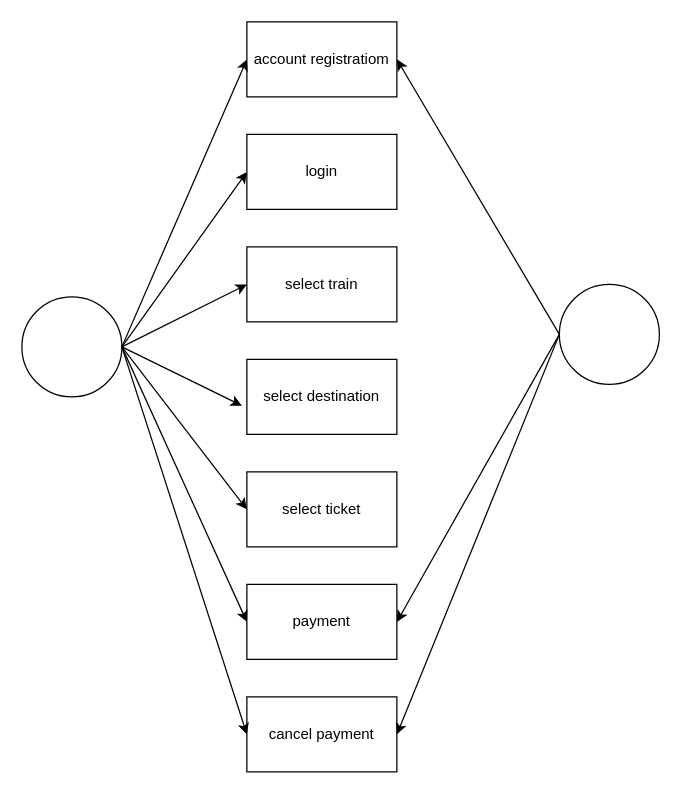
Image size: 681x794. Some labels were removed from this diagram. The centre of each missing label's shape, as x and y in pixels:
"system" belongs at [608,333].
"user" belongs at [71,346].
